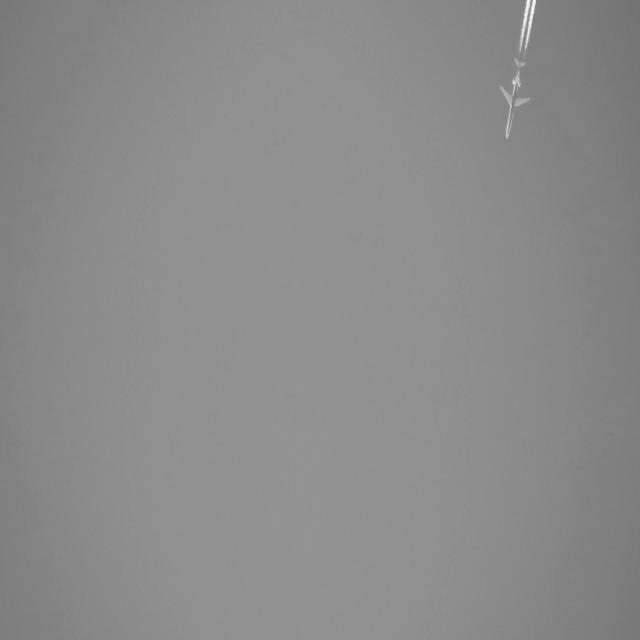aeroplane: (496, 54, 532, 146)
